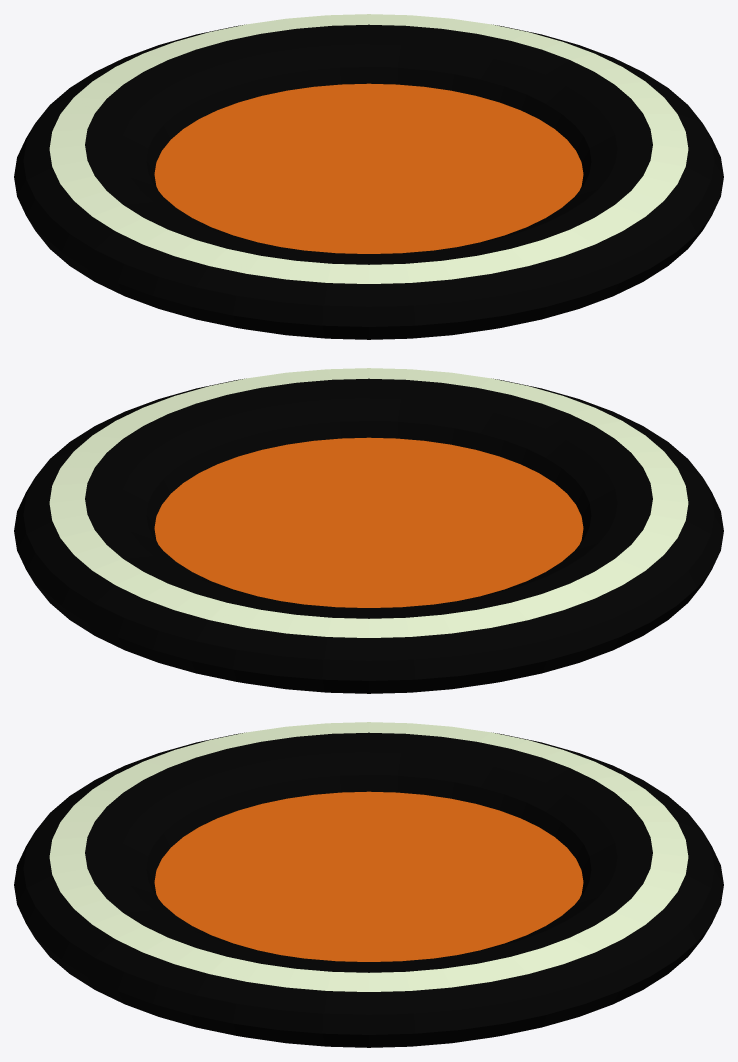
The model's file is tramplin.fbx.
3 renders of one model, top to bottom at view 1: azimuth 30°, elevation 25°; view 2: azimuth 150°, elevation 25°; view 3: azimuth 270°, elevation 25°, orthographic.
Visible parts, largest first — view 1: Torus, Cylindre; view 2: Torus, Cylindre; view 3: Torus, Cylindre.
Boxes of the visible parts, bbox=[...] form: Torus: bbox=[14, 14, 723, 339]; Cylindre: bbox=[154, 83, 583, 253]; Torus: bbox=[14, 368, 723, 693]; Cylindre: bbox=[154, 437, 583, 607]; Torus: bbox=[14, 722, 723, 1047]; Cylindre: bbox=[154, 791, 583, 961].
Bounding box in the file's own units: 250 × 25 × 250.
